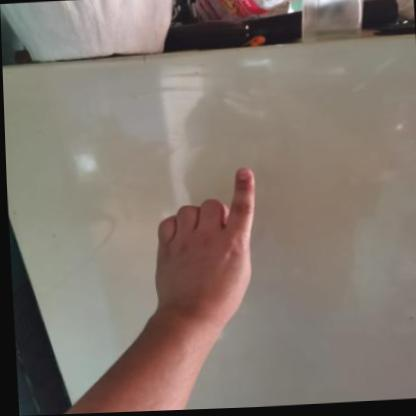T: (139, 166, 262, 323)
